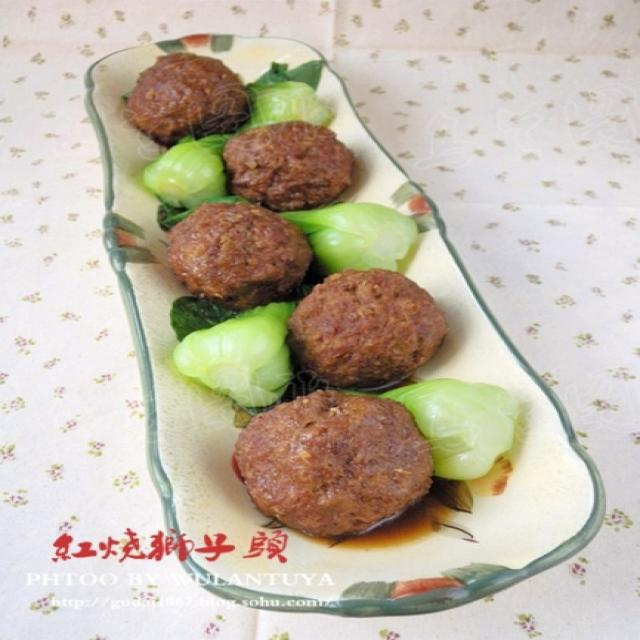Meatball: (220, 377, 448, 536), (287, 263, 454, 395), (155, 193, 321, 308), (121, 46, 254, 151), (220, 120, 361, 212)
